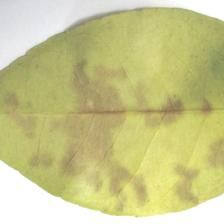black spot: (40, 59, 200, 185)
